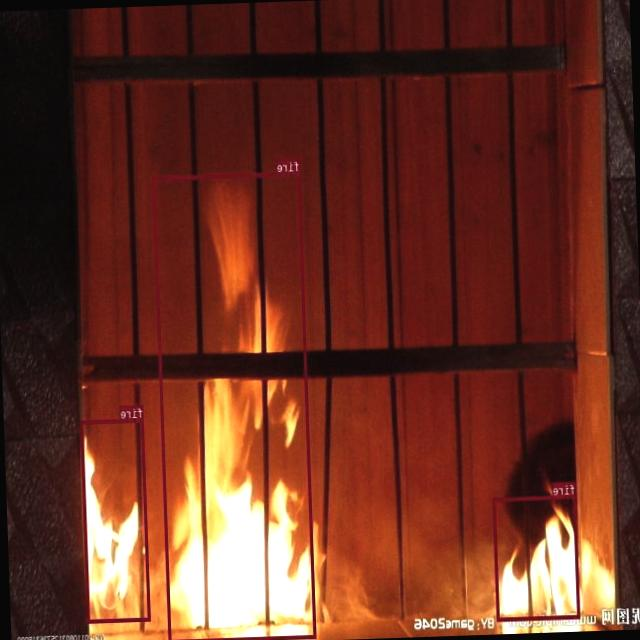fire: (153, 171, 316, 640), (81, 416, 151, 622), (492, 494, 580, 621)
